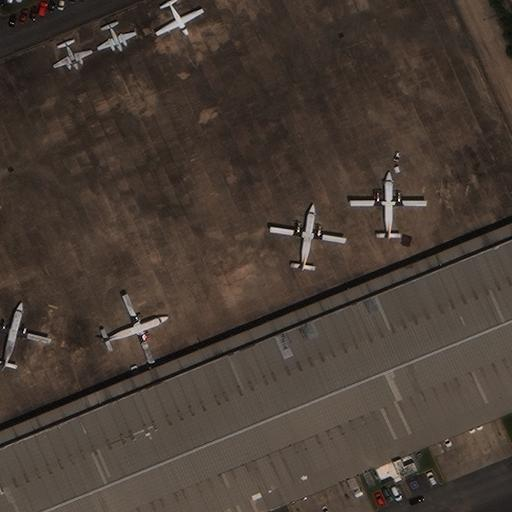Medium Civil Transport: (349, 171, 426, 240), (269, 203, 346, 270), (104, 294, 168, 362), (0, 302, 51, 370), (157, 1, 204, 35)
Small Civil Transport: (53, 41, 92, 69), (98, 22, 136, 50)
